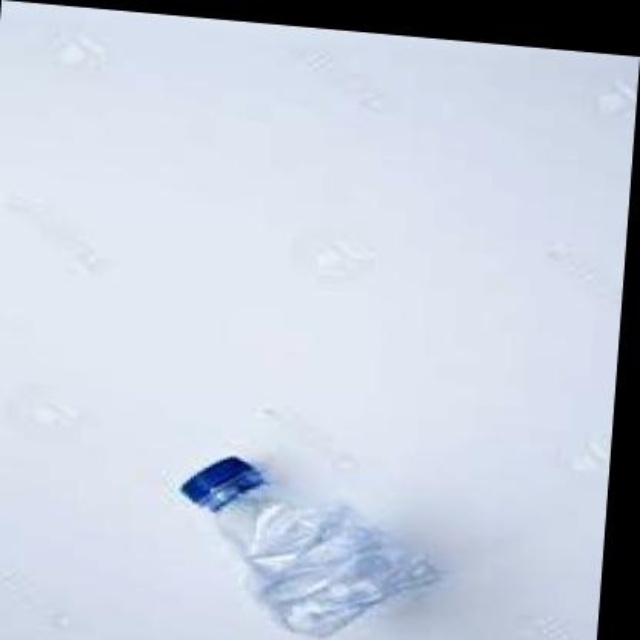trash: (180, 457, 438, 635)
